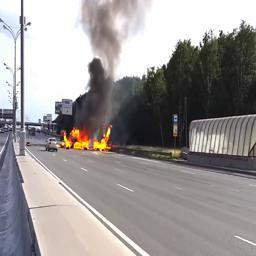fire: (61, 124, 112, 150)
